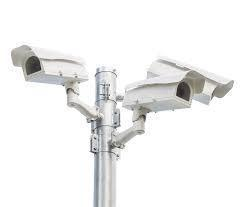Speed-Camera: (144, 49, 236, 107), (6, 41, 92, 92), (116, 68, 198, 114)
